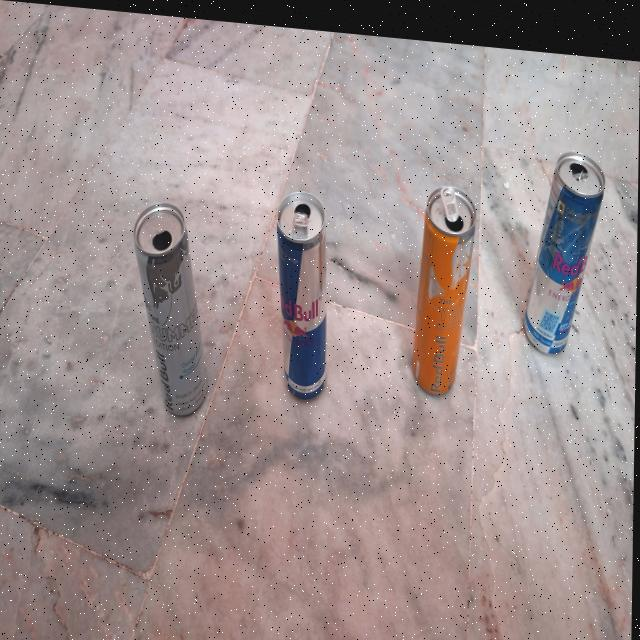Redbul: (270, 176, 337, 413)
Redbull DanceYourStyle: (523, 133, 616, 354)
Redbull Summer Edition: (128, 197, 224, 447)
Redbull Yellow Edition: (412, 169, 476, 398)
